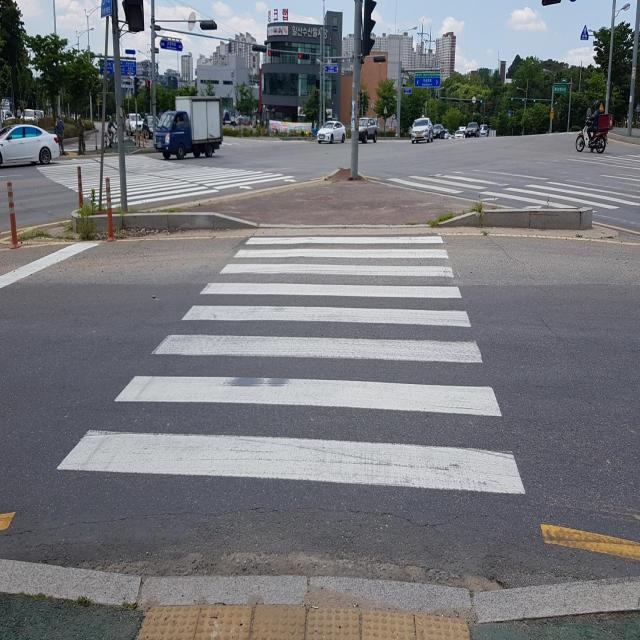횡단보도: (54, 233, 528, 502), (28, 136, 285, 208), (397, 144, 640, 217)
